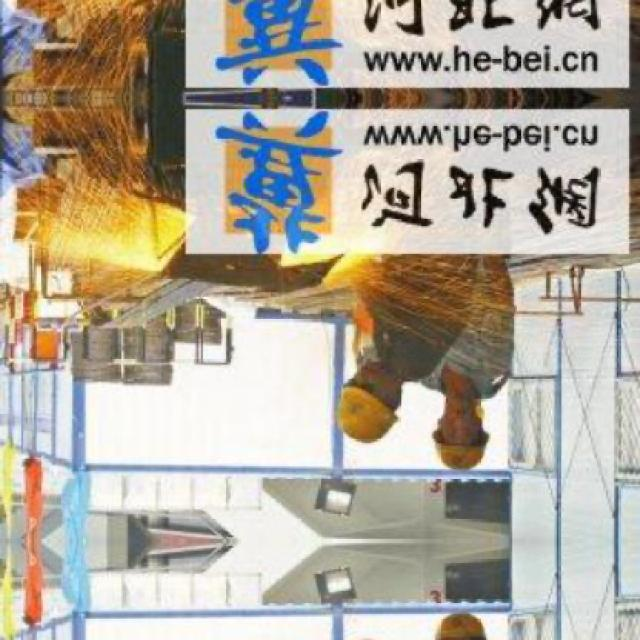con casco: (312, 361, 501, 493)
